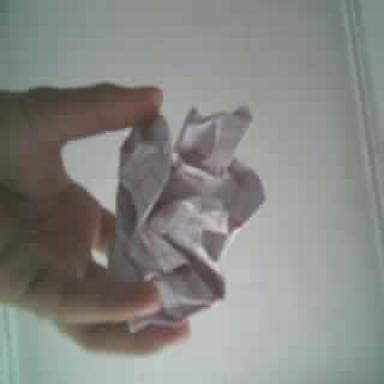paper: (109, 107, 264, 331)
